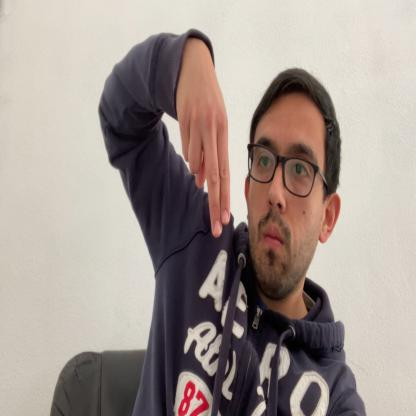N: (177, 43, 231, 236)
